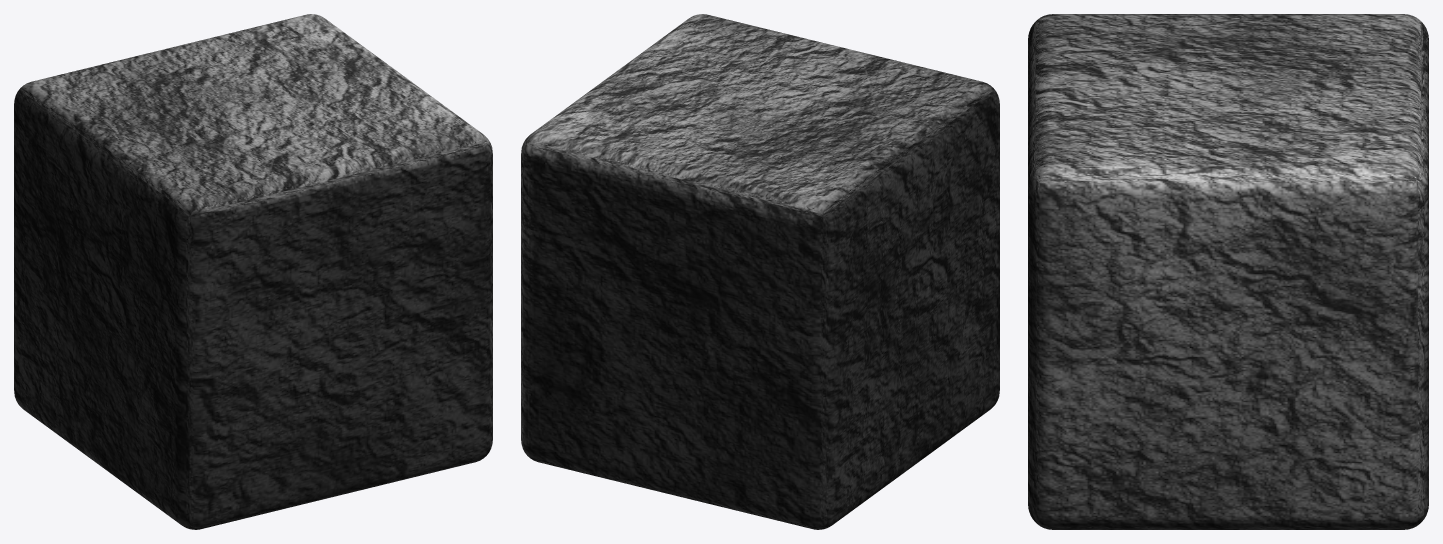
File: rock cube v1.fbx
The picture shows the model from 3 angles, left to right: view 1: azimuth 30°, elevation 25°; view 2: azimuth 150°, elevation 25°; view 3: azimuth 270°, elevation 25°; orthographic projection. The views are drawn at different scales.
Visible parts, largest first — view 1: Cube; view 2: Cube; view 3: Cube.
Boxes of the visible parts, x1,y1,x2,y2 form: Cube: (14,14,492,529); Cube: (521,14,999,529); Cube: (1028,14,1428,529).
Size of the model in its own units: 200 by 200 by 200.
